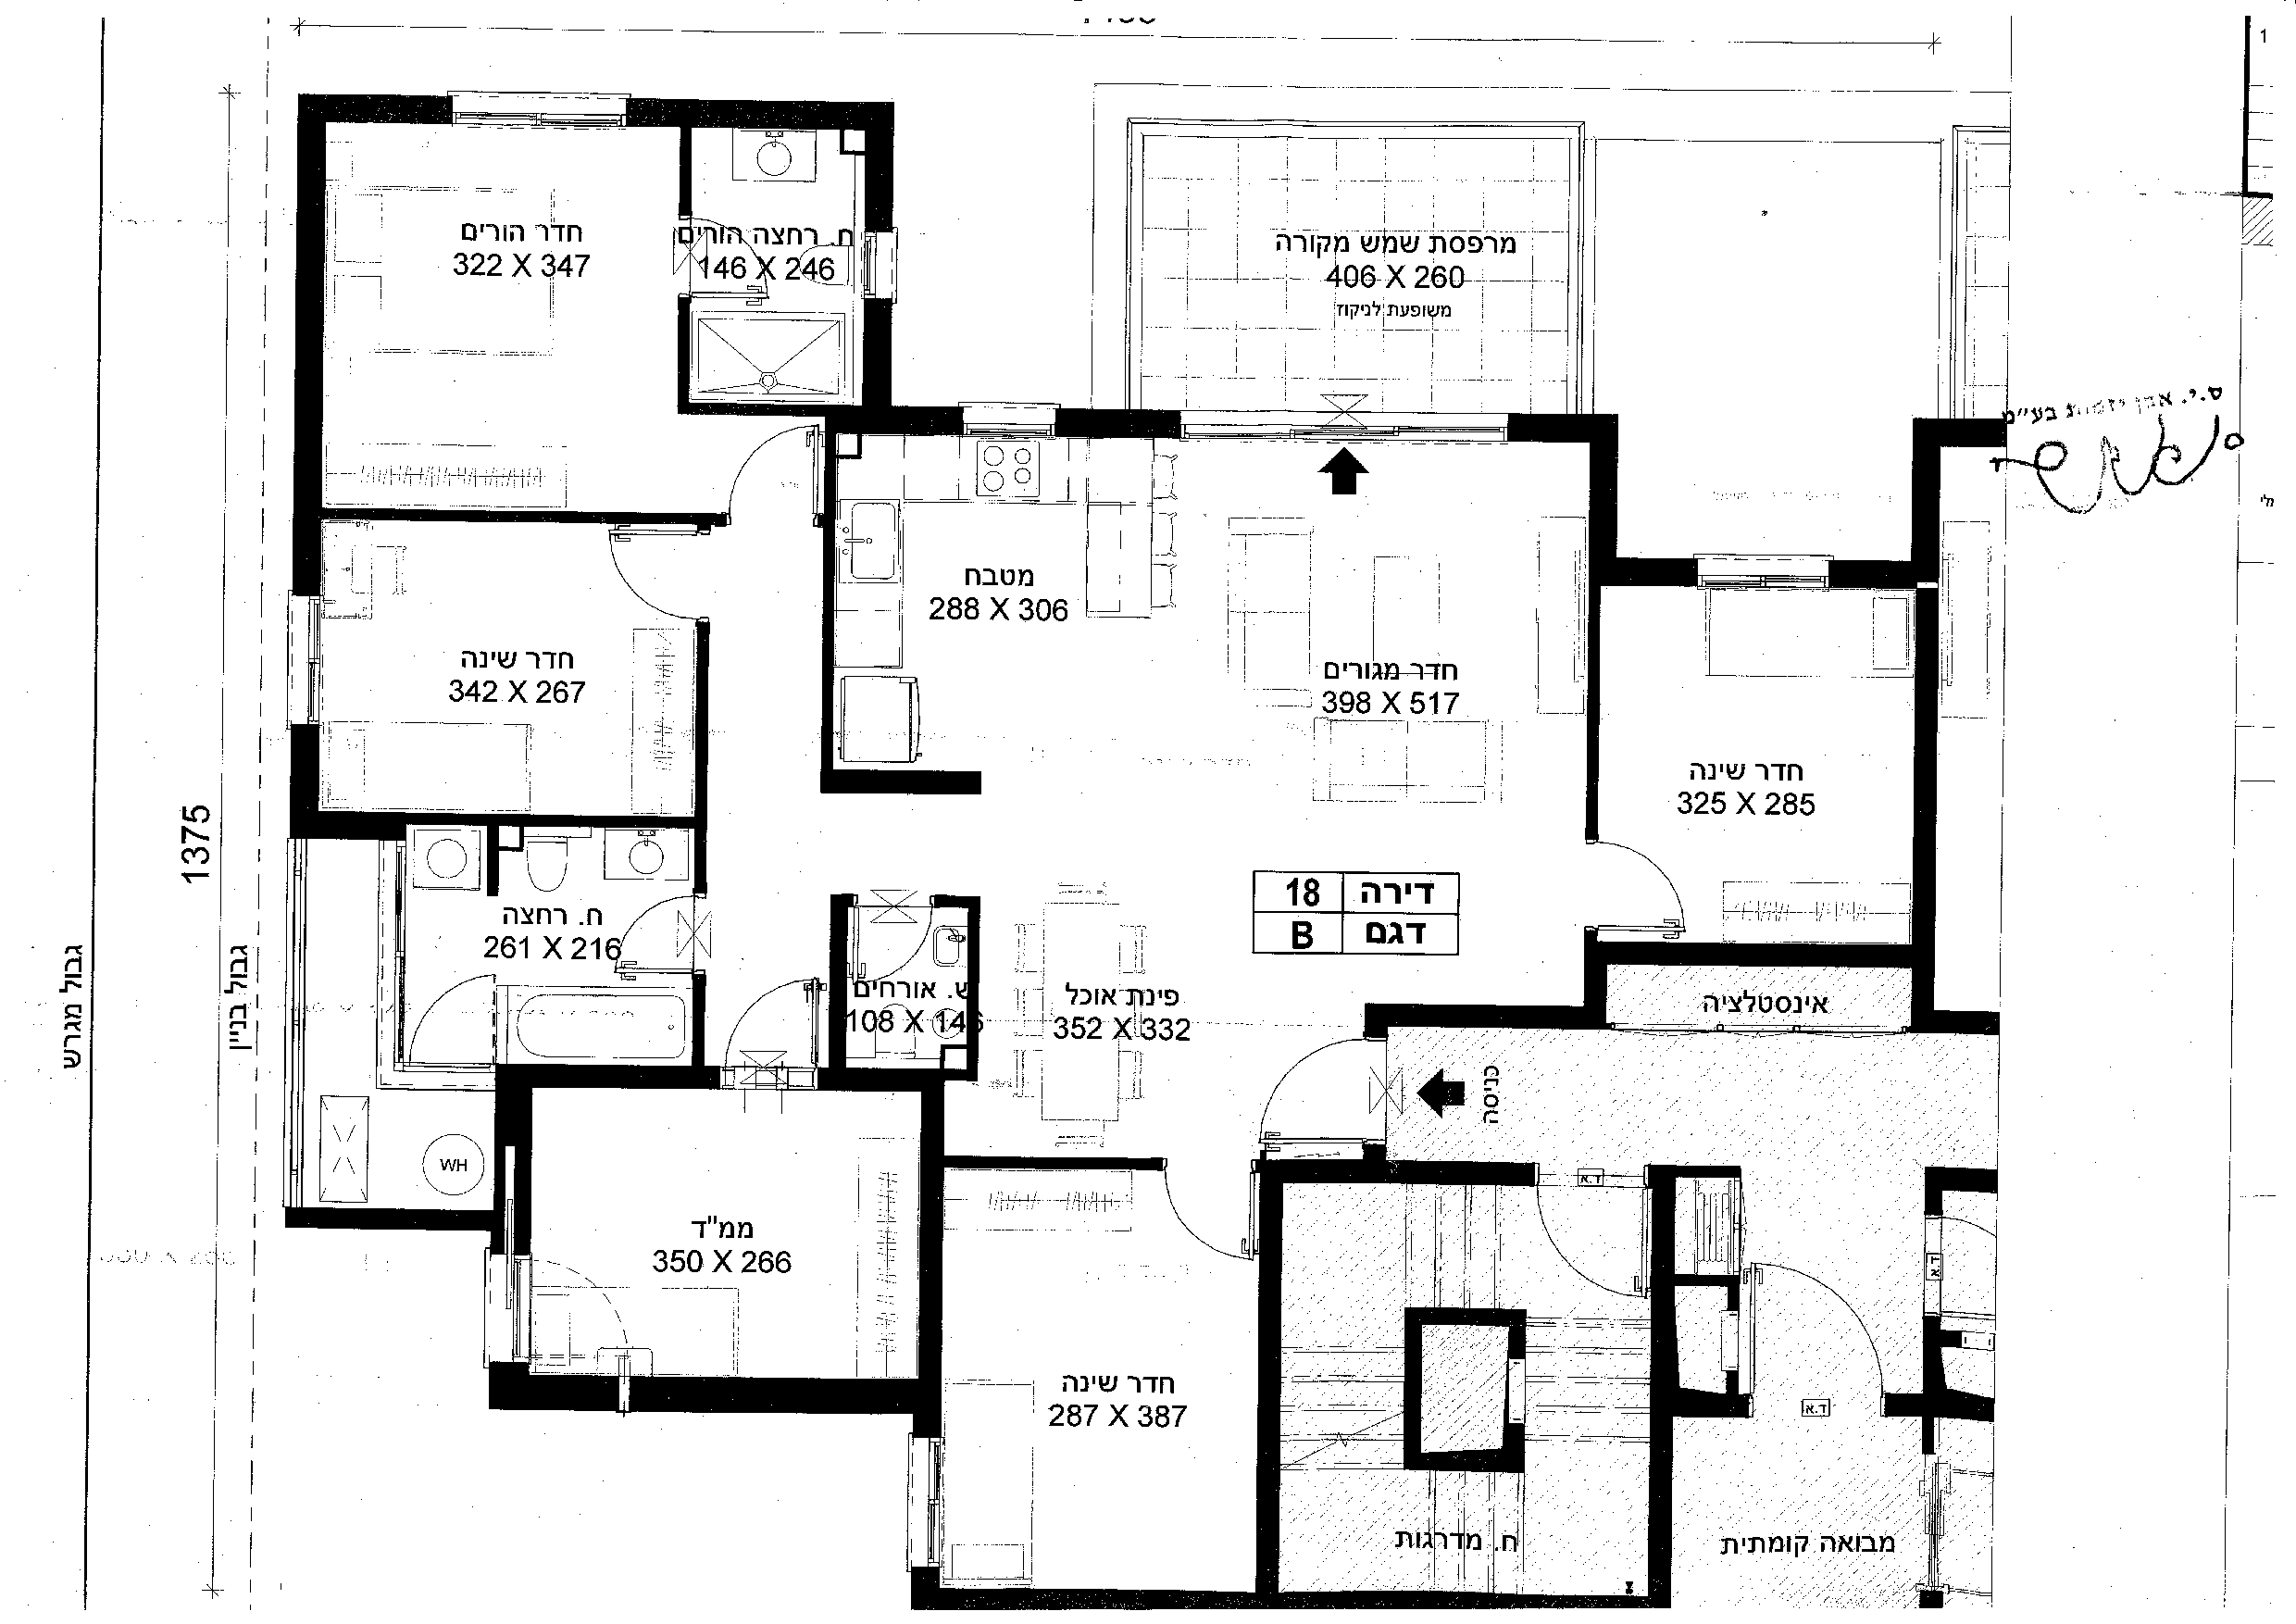door: (1741, 1243, 1890, 1403), (1253, 1030, 1397, 1156), (1537, 1185, 1648, 1299), (1597, 833, 1699, 939), (604, 526, 697, 627), (720, 420, 824, 511), (408, 970, 508, 1063), (1158, 1169, 1260, 1260), (724, 972, 824, 1058), (606, 889, 692, 979)
room: (300, 97, 692, 522), (917, 1156, 1281, 1606), (494, 1065, 940, 1408), (1585, 562, 1939, 963), (1588, 562, 1936, 968), (288, 510, 711, 835)
wall: (293, 93, 323, 591), (627, 97, 896, 127), (864, 299, 892, 432), (866, 100, 894, 232), (820, 770, 980, 793)
window: (1179, 408, 1511, 446), (450, 91, 627, 132), (1692, 550, 1836, 592), (906, 1434, 947, 1573), (288, 592, 321, 728), (957, 401, 1059, 441), (861, 228, 899, 299)
